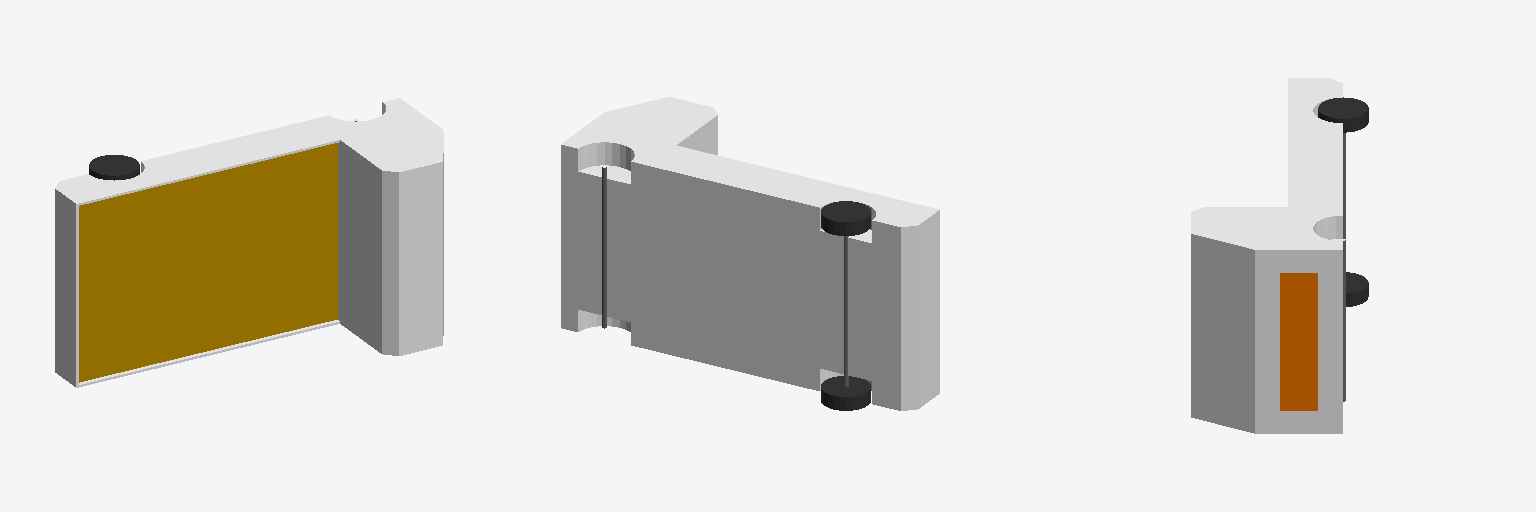
The model's file is carbase.obj.
3 views of the same model, side by side, from view 1: azimuth 30°, elevation 25°; view 2: azimuth 150°, elevation 25°; view 3: azimuth 270°, elevation 25° (orthographic).
Visible parts, largest first — view 1: group_0.011_ID78, group_0_ID4, group_0.003_ID26; view 2: group_0_ID4, group_0.003_ID26, group_0.008_ID60, group_0.001_ID12, group_0.005_ID42; view 3: group_0_ID4, group_0.004_ID34, group_0.003_ID26, group_0.008_ID60.
Boxes of the visible parts, x1=… form: group_0.011_ID78: x1=79, y1=143, x2=337, y2=382; group_0_ID4: x1=55, y1=98, x2=443, y2=387; group_0.003_ID26: x1=89, y1=155, x2=139, y2=180; group_0_ID4: x1=561, y1=97, x2=939, y2=410; group_0.003_ID26: x1=821, y1=201, x2=870, y2=235; group_0.008_ID60: x1=821, y1=376, x2=870, y2=410; group_0.001_ID12: x1=602, y1=167, x2=606, y2=328; group_0.005_ID42: x1=844, y1=236, x2=848, y2=386; group_0_ID4: x1=1191, y1=78, x2=1342, y2=433; group_0.004_ID34: x1=1280, y1=273, x2=1317, y2=410; group_0.003_ID26: x1=1318, y1=97, x2=1368, y2=132; group_0.008_ID60: x1=1346, y1=272, x2=1368, y2=306.
Bounding box in the file's own units: 8 × 4.1 × 3.5.